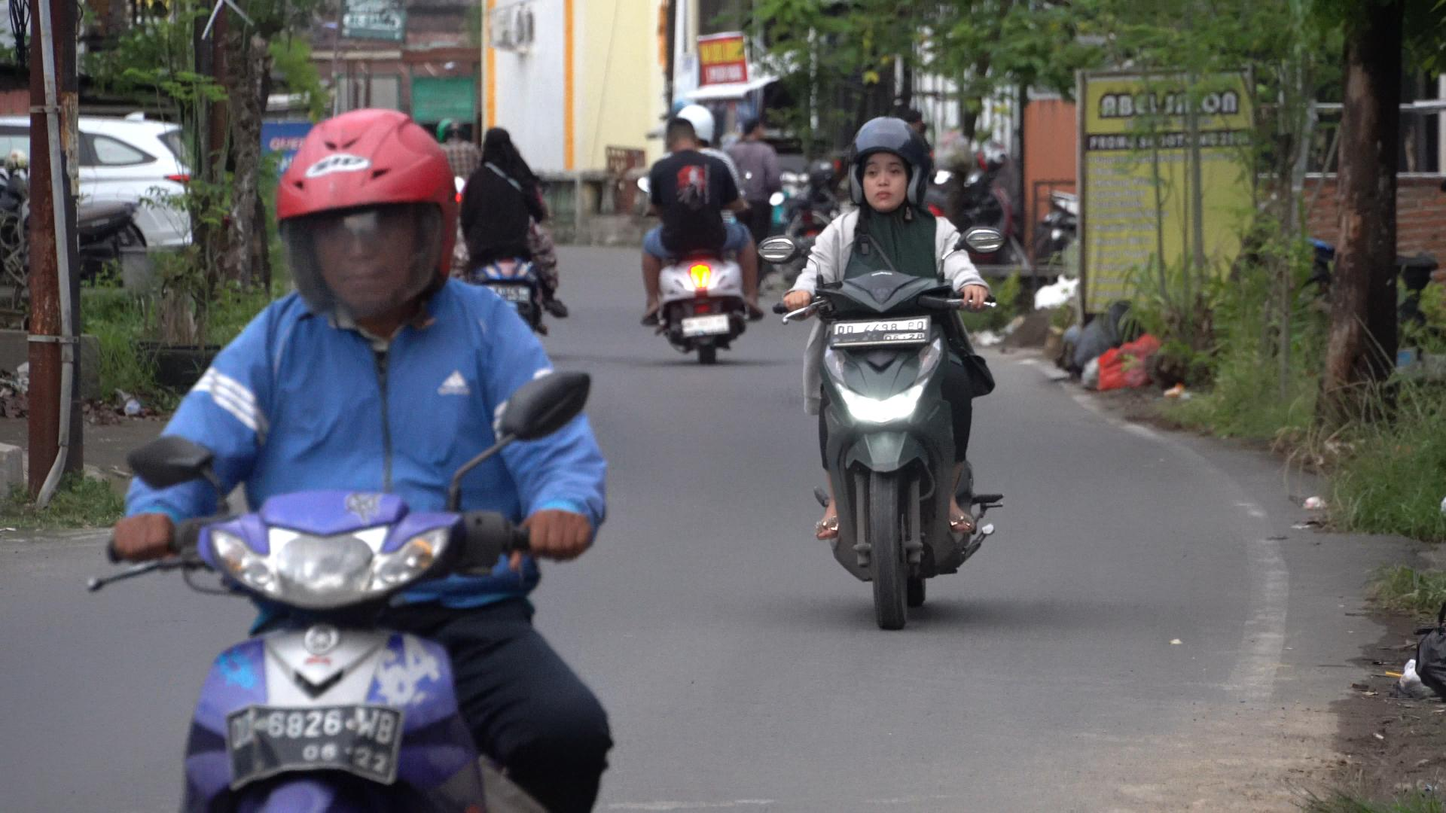number-plate: (224, 706, 402, 777), (827, 318, 937, 351)
